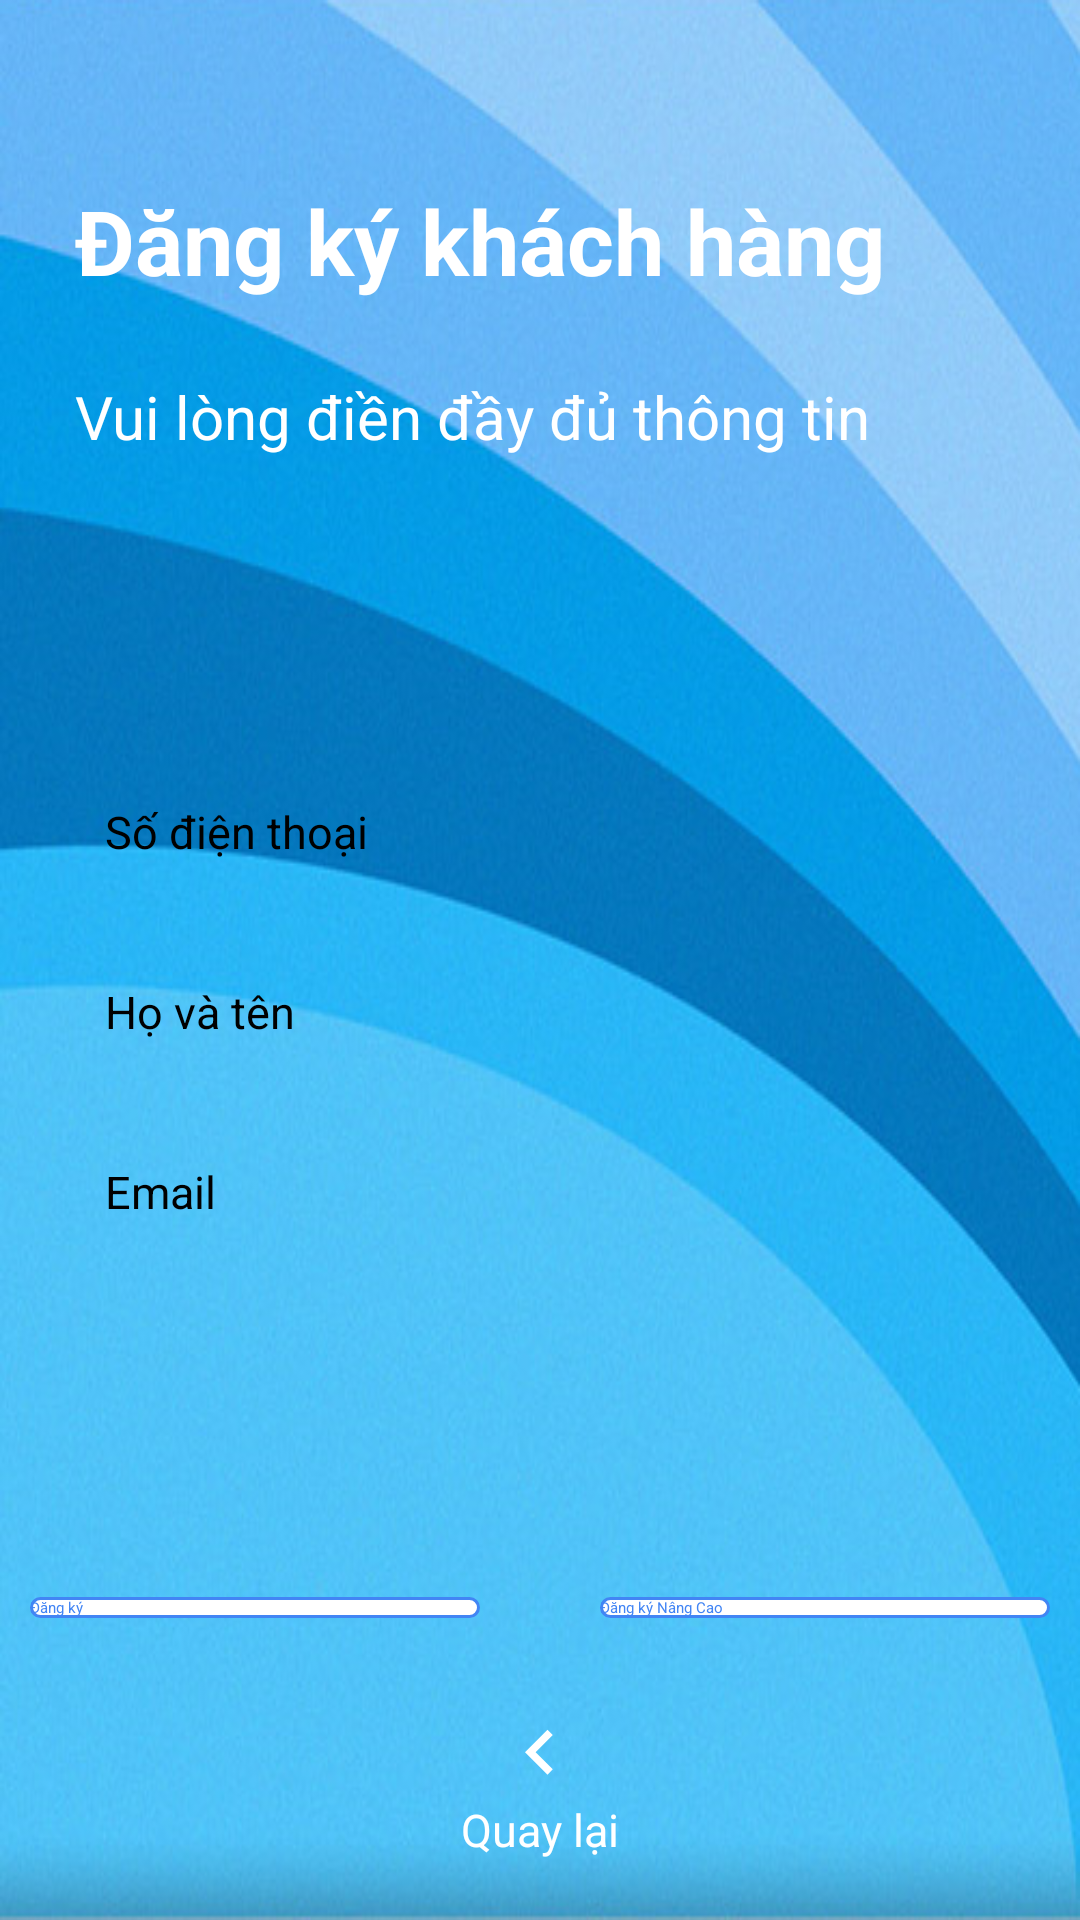

Icons on this 1080px x 1920px Android screen, each with the point to tap as point (x, y):
arrow left: point (539, 1752)
